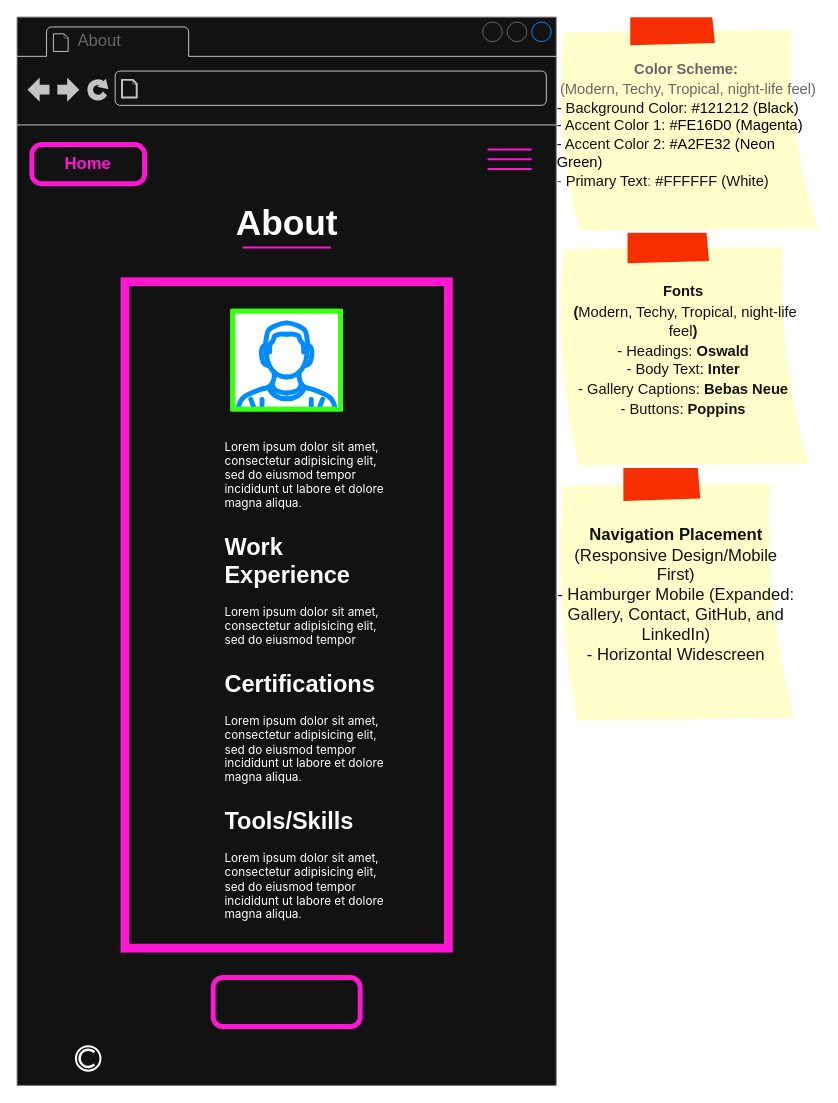
Some shapes in this 838 by 1103 pixel diagram are drawn without their labels. The shapes that lost their labels are listed below. From the top down, each one's centre as x and y in pixels, then its label:
At (267,88): "https://www.draw.io".
At (286,1002): "Resume".
